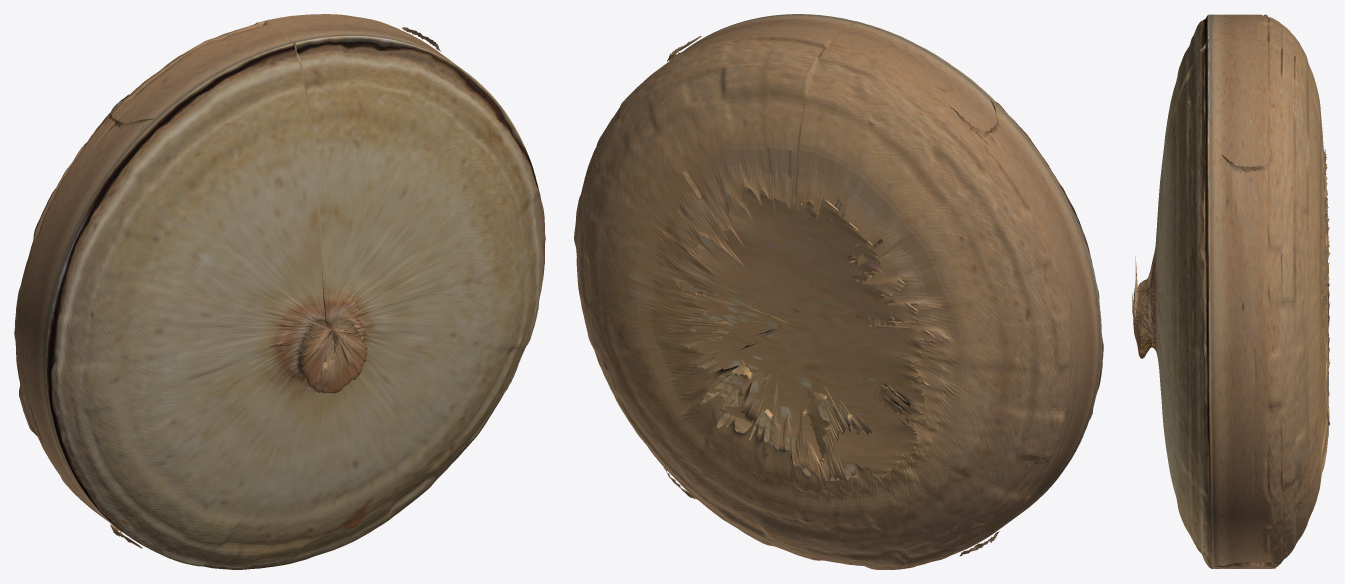
Rendered from mesh_inpaint.glb.
3 renders of one model, left to right at view 1: azimuth 30°, elevation 25°; view 2: azimuth 150°, elevation 25°; view 3: azimuth 270°, elevation 25°, orthographic. The views are drawn at different scales.
Visible parts, largest first — view 1: ipn, fill; view 2: ipn, fill; view 3: ipn, fill.
Part boxes in pixels (left/top/right/bottom): ipn: left=14, top=14, right=545, bottom=569; fill: left=106, top=27, right=441, bottom=548; ipn: left=574, top=14, right=1103, bottom=569; fill: left=663, top=36, right=1000, bottom=556; ipn: left=1132, top=14, right=1328, bottom=568; fill: left=1216, top=14, right=1330, bottom=568.
Size of the model in its own units: 2 by 2 by 0.7145.
Materials: 2 (1 with a texture image).
